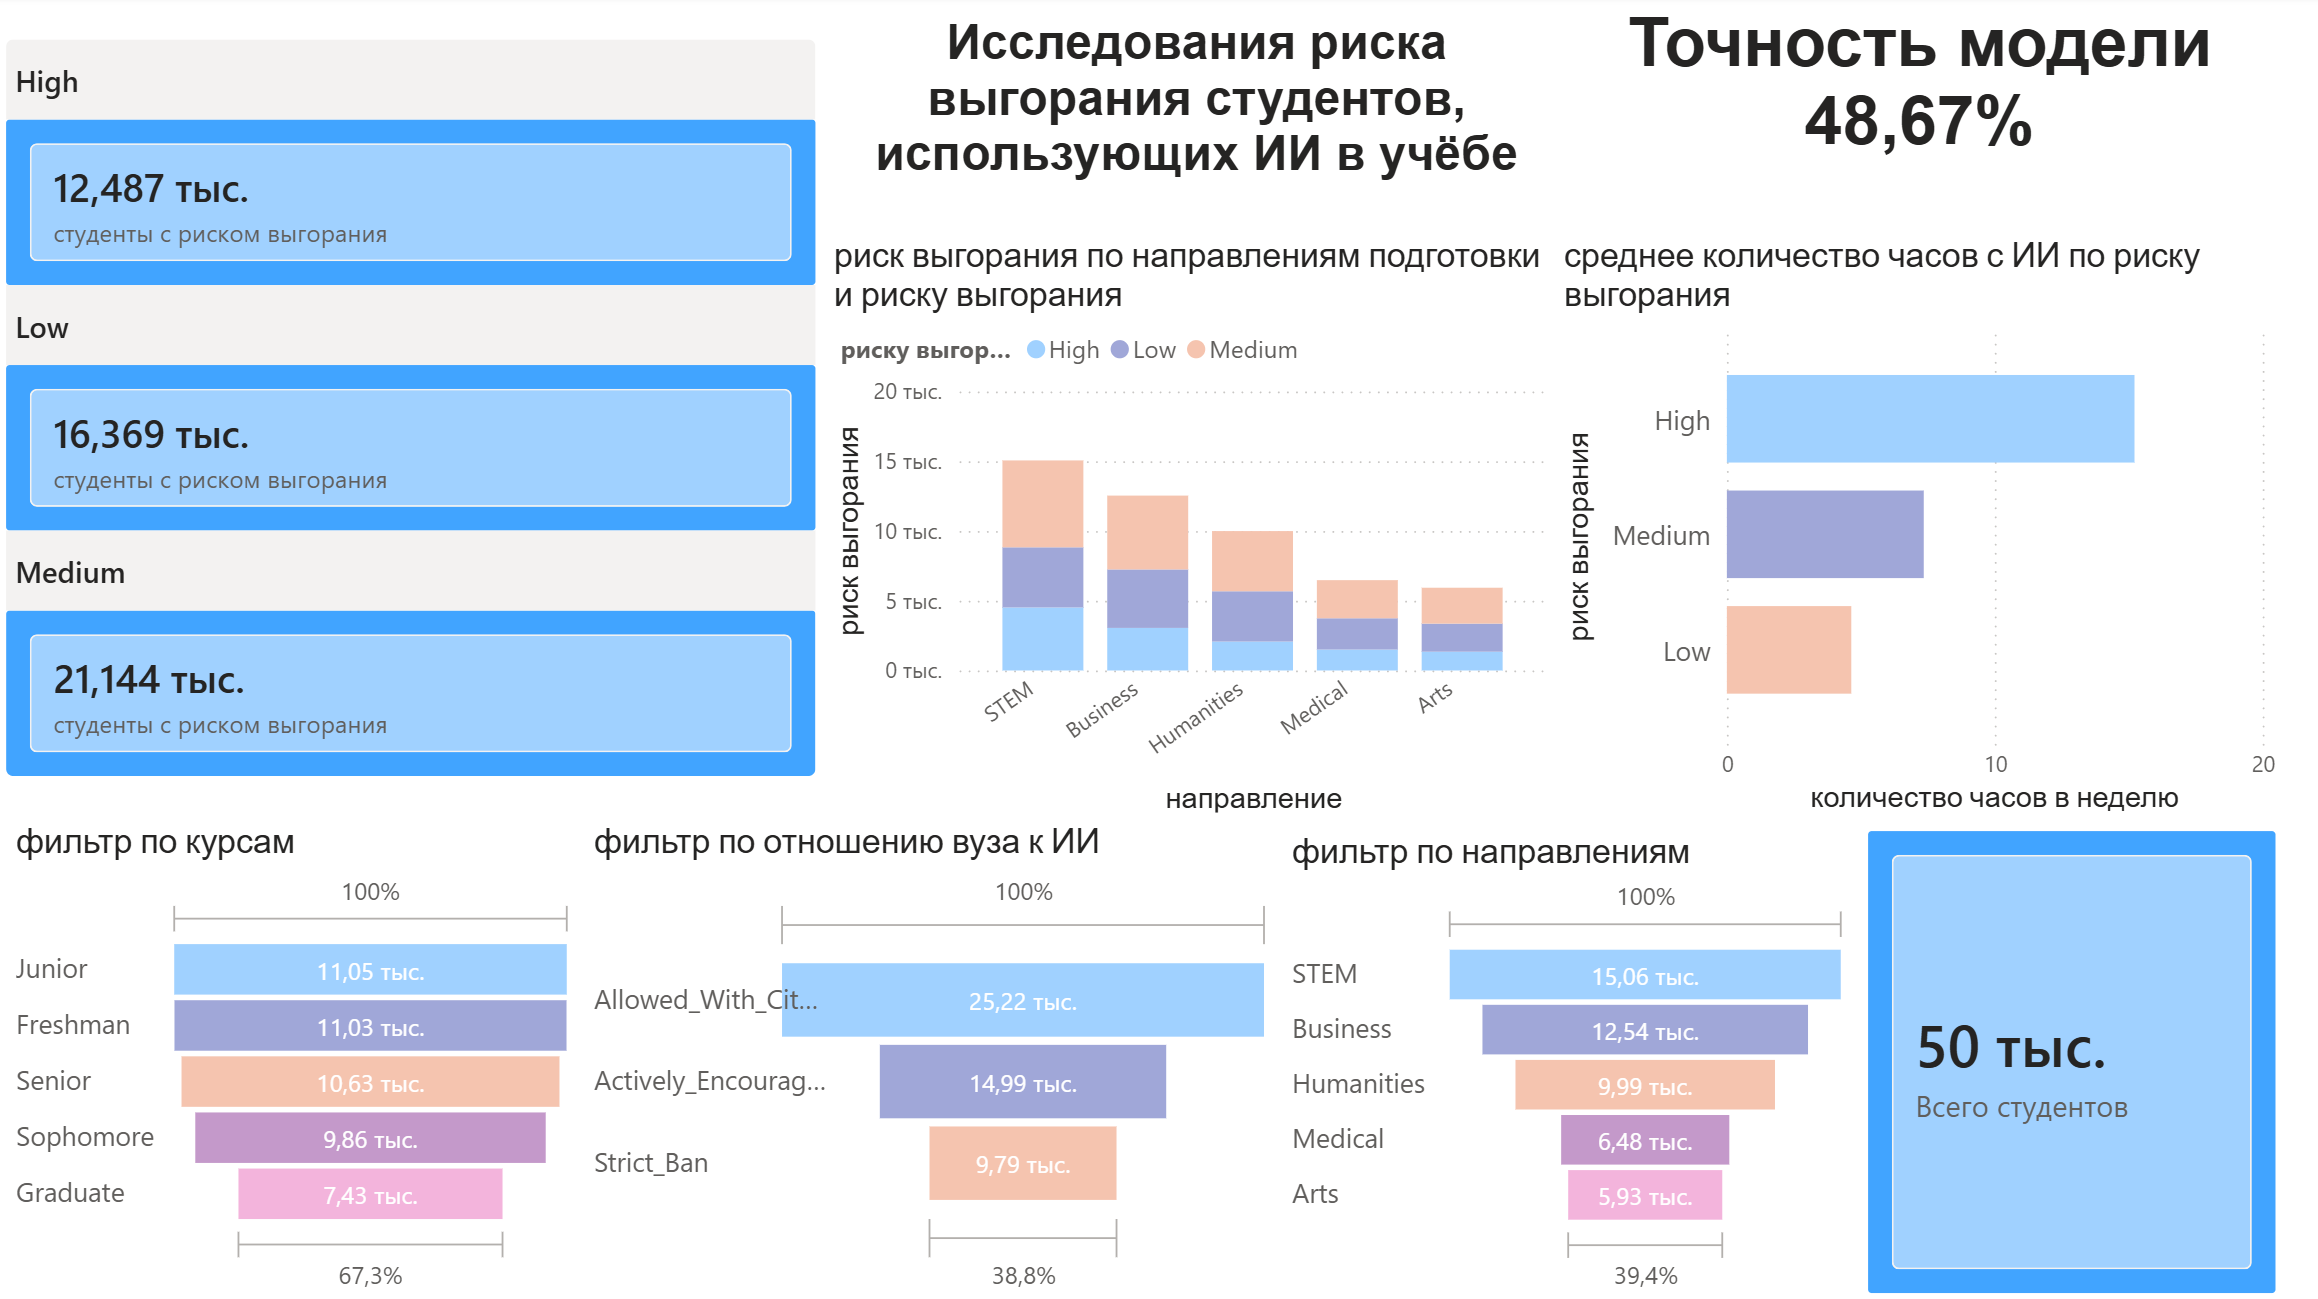

The page's visual inventory and layout, read from the dashboard file:
{"tool":"powerbi","page":{"name":"Страница 4","canvas":[1280,720],"ordinal":0},"visuals":[{"type":"cardVisual","fields":{"Data":["CountNonNull(ai_data_for_powerbi.Burnout_Risk_Level)"]},"box":[1023.3,455.6,234.4,264.4],"z":0},{"type":"cardVisual","fields":{"Data":["CountNonNull(ai_data_for_powerbi.Burnout_Risk_Level)"],"Rows":["ai_data_for_powerbi.Burnout_Risk_Level"]},"box":[0,0,455.6,455.6],"z":1000},{"type":"textbox","box":[856.7,0,401.1,133.3],"z":2000},{"type":"funnel","fields":{"Y":["CountNonNull(ai_data_for_powerbi.Major_Category)"],"Category":["ai_data_for_powerbi.Major_Category"]},"box":[706.7,461.1,316.7,258.9],"z":3000},{"type":"funnel","fields":{"Category":["ai_data_for_powerbi.Institutional_Policy"],"Y":["CountNonNull(ai_data_for_powerbi.Institutional_Policy)"]},"box":[323.3,455.6,383.3,264.4],"z":4000},{"type":"funnel","fields":{"Category":["ai_data_for_powerbi.Year_of_Study"],"Y":["CountNonNull(ai_data_for_powerbi.Year_of_Study)"]},"box":[5.6,455.6,317.8,264.4],"z":5000},{"type":"barChart","fields":{"Category":["ai_data_for_powerbi.Burnout_Risk_Level"],"Y":["Avg(ai_data_for_powerbi.Weekly_GenAI_Hours)"]},"box":[856.7,133.3,401.1,322.2],"z":6000},{"type":"columnChart","fields":{"Category":["ai_data_for_powerbi.Major_Category"],"Y":["CountNonNull(ai_data_for_powerbi.Burnout_Risk_Level)"],"Series":["ai_data_for_powerbi.Burnout_Risk_Level"]},"box":[455.6,133.3,402.2,322.2],"z":7000},{"type":"textbox","box":[462.2,0,395.6,133.3],"z":8000}]}

Visuals, with their boxes in screenshot pixels (x1, y1, x2, y2), scaled from the page's 1280x720 canvas onto the 2318x1299 screenshot:
cardVisual - CountNonNull(ai_data_for_powerbi.Burnout_Risk_Level): detection(1853, 822, 2278, 1298)
cardVisual - CountNonNull(ai_data_for_powerbi.Burnout_Risk_Level) x ai_data_for_powerbi.Burnout_Risk_Level: detection(0, 0, 825, 822)
textbox: detection(1551, 0, 2278, 240)
funnel - CountNonNull(ai_data_for_powerbi.Major_Category) x ai_data_for_powerbi.Major_Category: detection(1280, 832, 1853, 1298)
funnel - ai_data_for_powerbi.Institutional_Policy x CountNonNull(ai_data_for_powerbi.Institutional_Policy): detection(585, 822, 1280, 1298)
funnel - ai_data_for_powerbi.Year_of_Study x CountNonNull(ai_data_for_powerbi.Year_of_Study): detection(10, 822, 586, 1298)
barChart - ai_data_for_powerbi.Burnout_Risk_Level x Avg(ai_data_for_powerbi.Weekly_GenAI_Hours): detection(1551, 240, 2278, 822)
columnChart - ai_data_for_powerbi.Major_Category x CountNonNull(ai_data_for_powerbi.Burnout_Risk_Level): detection(825, 240, 1553, 822)
textbox: detection(837, 0, 1553, 240)
